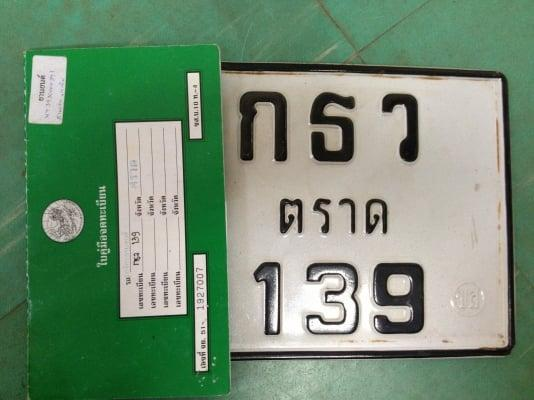1: (244, 255, 292, 340)
3: (296, 253, 366, 338)
9: (369, 252, 433, 340)
A01: (234, 82, 293, 169)
A24: (297, 83, 366, 170)
A37: (371, 83, 435, 171)
TRT: (263, 186, 403, 243)
